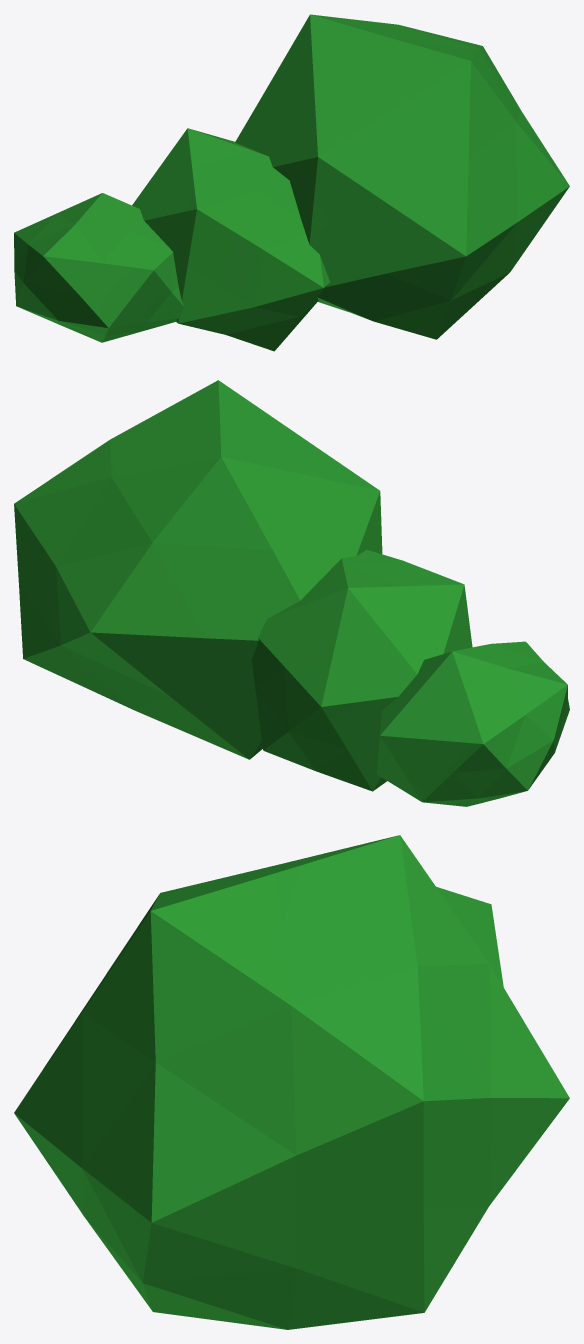
Rendered from bush5.fbx.
The picture shows the model from 3 angles, top to bottom: view 1: azimuth 30°, elevation 25°; view 2: azimuth 150°, elevation 25°; view 3: azimuth 270°, elevation 25°; orthographic projection. The views are drawn at different scales.
Parts seen in each view (by area): view 1: Icosphere.014; view 2: Icosphere.014; view 3: Icosphere.014.
Boxes of the visible parts, left/top/right/bottom form: Icosphere.014: left=14, top=14, right=569, bottom=351; Icosphere.014: left=14, top=380, right=569, bottom=806; Icosphere.014: left=14, top=835, right=569, bottom=1329.
Size of the model in its own units: 179 by 102 by 115.
